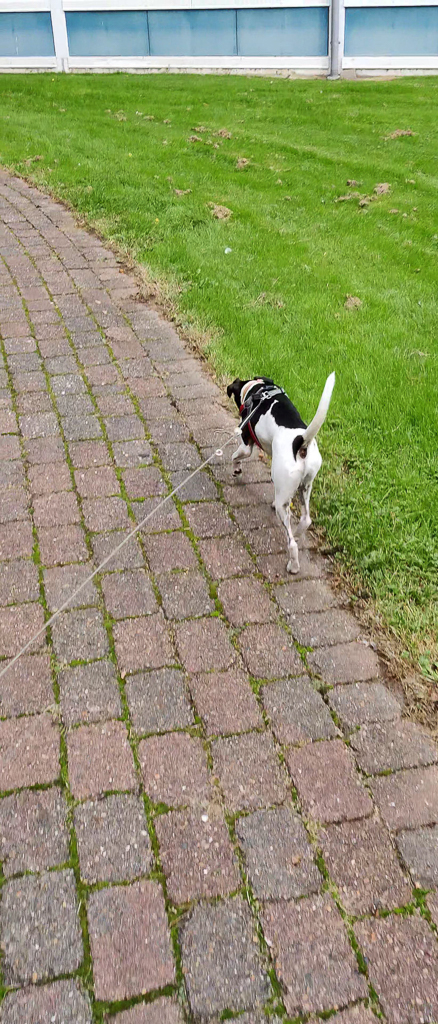Dog: (214, 351, 352, 595)
